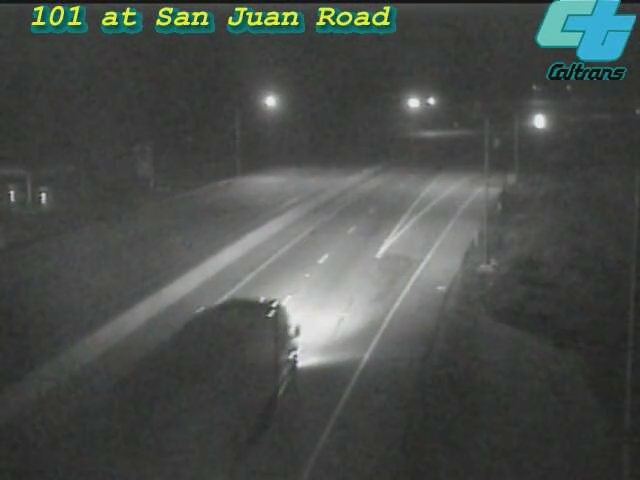vehicle: (177, 307, 287, 417), (514, 97, 564, 147)
